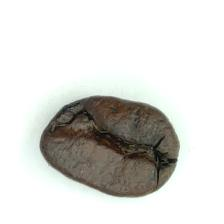NG: (48, 98, 156, 173)
